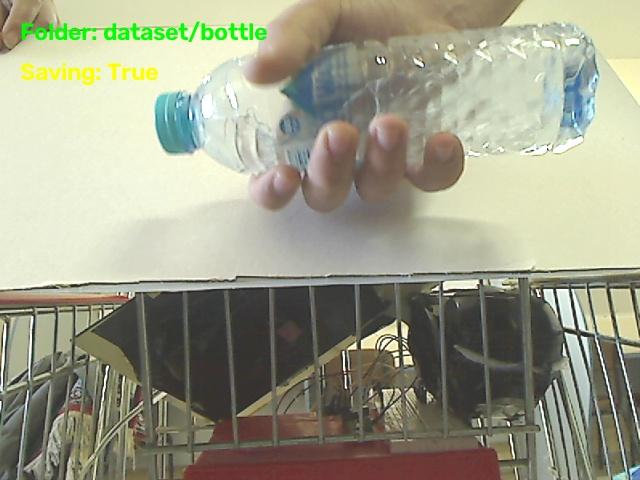Bottle: (156, 23, 598, 174)
